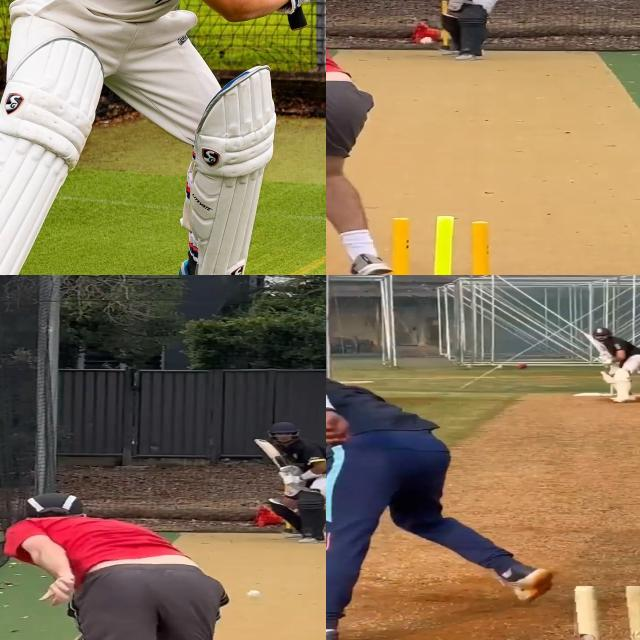Cricket ball: (245, 590, 262, 600), (419, 37, 435, 47), (515, 363, 529, 370)
Stumps: (371, 215, 509, 275)
